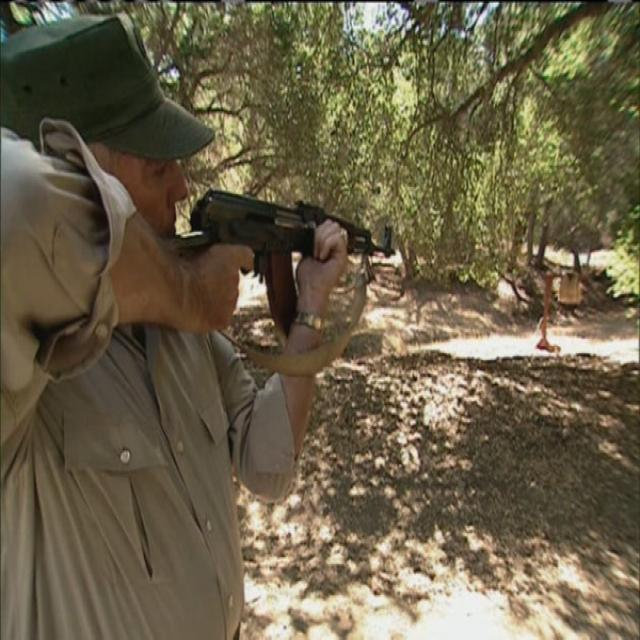rifle: (193, 194, 399, 351)
